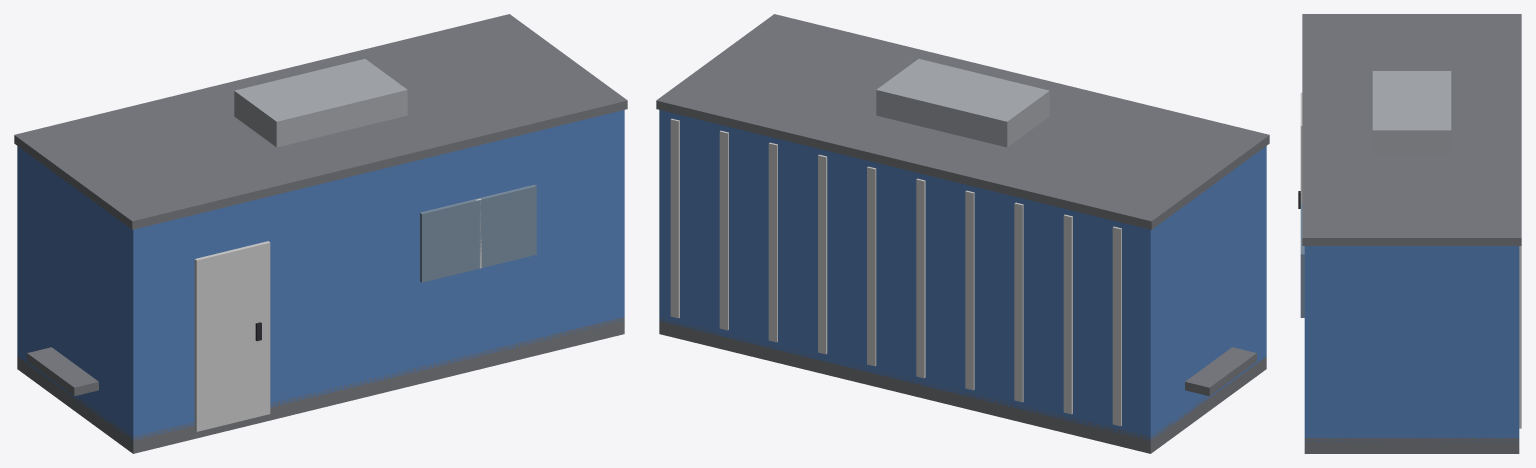
The model's file is Santiye_Konteyneri.glb.
3 views of the same model, side by side, from view 1: azimuth 30°, elevation 25°; view 2: azimuth 150°, elevation 25°; view 3: azimuth 270°, elevation 25° (orthographic). The views are drawn at different scales.
Visible parts, largest first — view 1: Santiye_Konteyneri; view 2: Santiye_Konteyneri; view 3: Santiye_Konteyneri.
Part boxes in pixels (<box>): Santiye_Konteyneri: <box>14,14,627,453</box>; Santiye_Konteyneri: <box>656,14,1269,453</box>; Santiye_Konteyneri: <box>1298,14,1521,453</box>.
Bounding box in the file's own units: 6.33 × 3.05 × 2.54.
